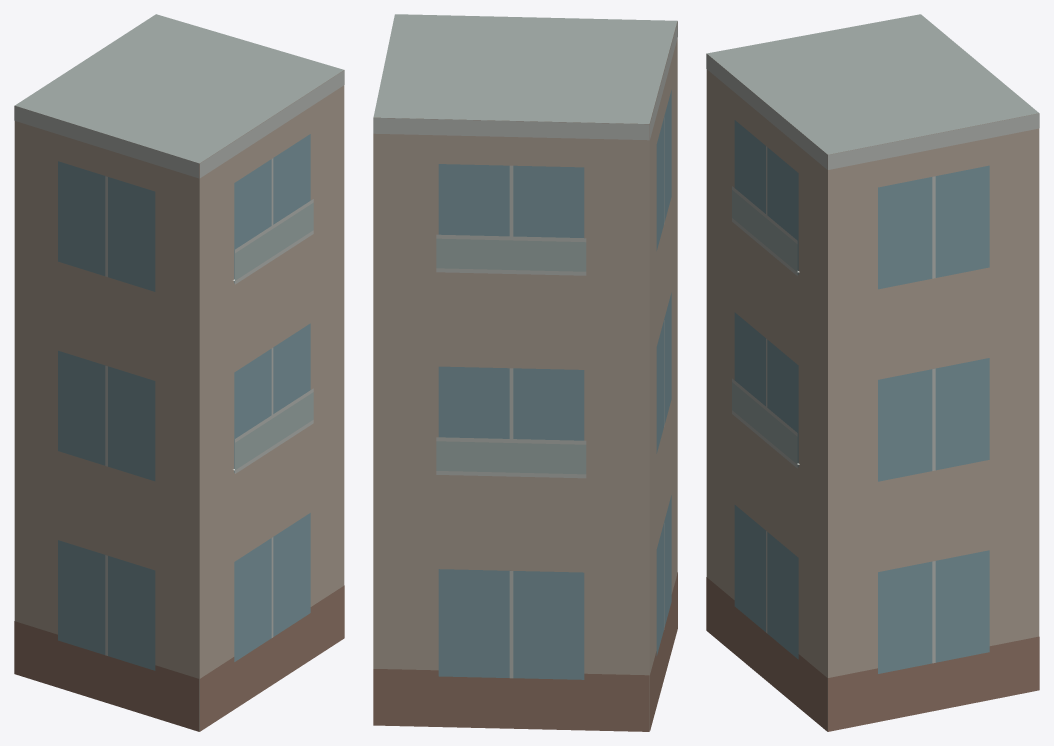
Rendered from survey-upis-32862897.glb.
The picture shows the model from 3 angles, left to right: view 1: azimuth 30°, elevation 25°; view 2: azimuth 150°, elevation 25°; view 3: azimuth 270°, elevation 25°; orthographic projection. The views are drawn at different scales.
Visible parts, largest first — view 1: survey-upis-32862897.tmp; view 2: survey-upis-32862897.tmp; view 3: survey-upis-32862897.tmp.
Boxes of the visible parts, bbox=[...] form: survey-upis-32862897.tmp: bbox=[14, 14, 344, 731]; survey-upis-32862897.tmp: bbox=[373, 14, 677, 731]; survey-upis-32862897.tmp: bbox=[706, 14, 1039, 731].
Bounding box in the file's own units: 4.79 × 9.15 × 4.79.
